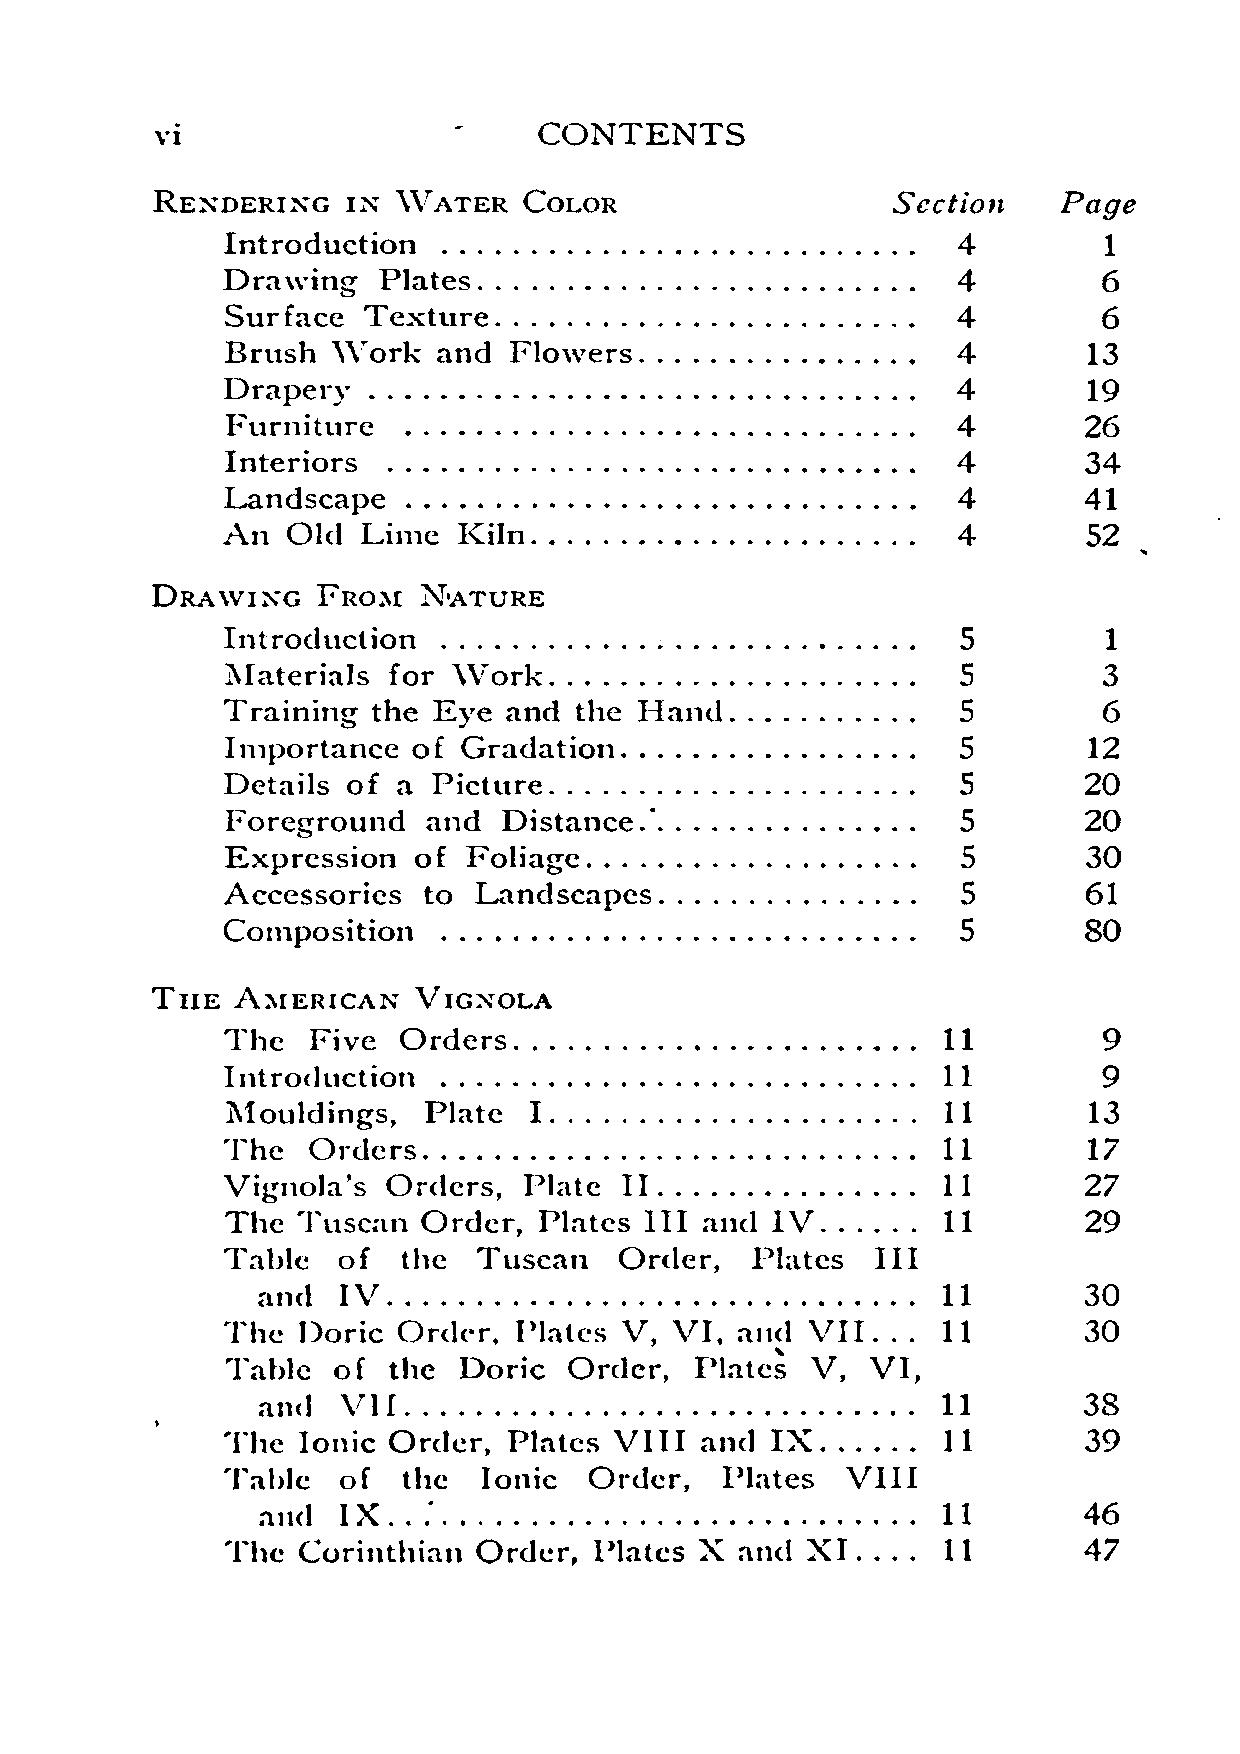TOC_chapter: (219, 1241, 927, 1311), (215, 1463, 921, 1533), (215, 1351, 917, 1418), (215, 1534, 854, 1571), (217, 1202, 817, 1239), (213, 1317, 871, 1349), (148, 183, 625, 225), (217, 1424, 819, 1456), (144, 974, 556, 1019), (216, 694, 723, 726), (221, 336, 633, 372), (219, 836, 585, 876), (219, 880, 655, 913), (152, 576, 553, 611), (217, 1168, 654, 1198), (217, 805, 636, 835), (217, 656, 548, 692), (216, 733, 620, 762), (216, 764, 550, 798), (221, 518, 527, 556), (220, 1098, 549, 1130), (213, 297, 497, 333), (220, 1023, 505, 1057), (221, 619, 425, 656), (219, 263, 474, 293), (220, 1059, 416, 1092), (216, 915, 427, 945), (223, 228, 424, 258), (216, 482, 386, 515), (221, 1135, 419, 1164), (221, 409, 374, 442), (220, 372, 360, 407), (217, 447, 362, 479)
TOC_pagenumber: (1078, 762, 1123, 798), (1078, 515, 1125, 550), (1078, 1094, 1125, 1127), (1080, 1384, 1118, 1421), (1084, 911, 1126, 945), (1080, 1204, 1122, 1237), (1080, 727, 1123, 760), (1078, 1276, 1121, 1308), (1080, 1534, 1123, 1566), (1082, 336, 1122, 369), (1082, 801, 1122, 835), (1079, 1169, 1121, 1201), (1082, 1427, 1125, 1457), (1080, 411, 1121, 443), (1084, 841, 1125, 874), (1082, 374, 1121, 407), (1080, 1498, 1122, 1527), (1083, 1134, 1121, 1164), (1086, 480, 1119, 513), (1084, 1312, 1118, 1345), (1083, 447, 1121, 475), (1086, 878, 1118, 909), (1092, 1023, 1123, 1053), (1096, 301, 1125, 334), (1096, 228, 1123, 262), (1100, 695, 1125, 725), (1100, 270, 1129, 294), (1100, 659, 1123, 688), (1098, 1059, 1119, 1088), (1100, 620, 1121, 650)
chapter: (525, 115, 754, 152)
